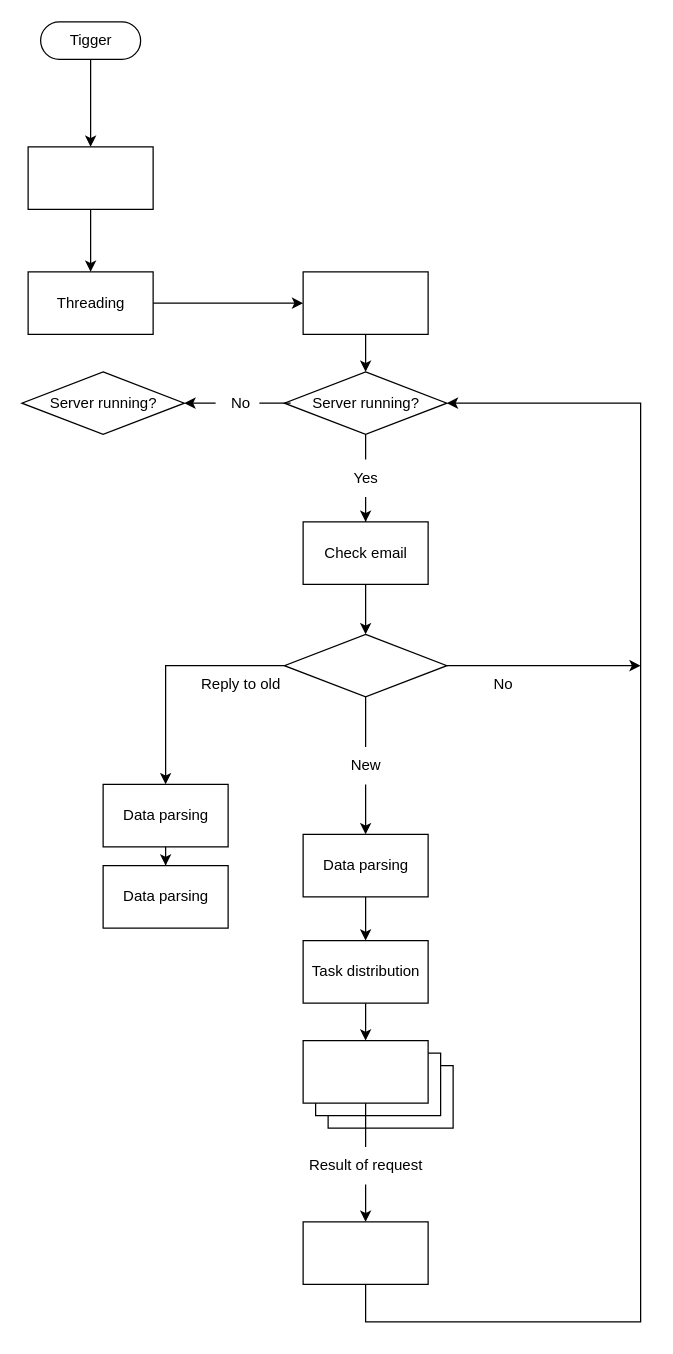
Some shapes in this 673 by 1354 pixel diagram are drawn without their labels. The centre of each missing label's shape, as x and y in pixels:
"Init" goes at point 90,177.
"New email?" goes at point 365,665.
"Send confirmation email" goes at point 365,1252.
"Server starting" goes at point 365,302.
"Worker functions" goes at point 365,1071.
